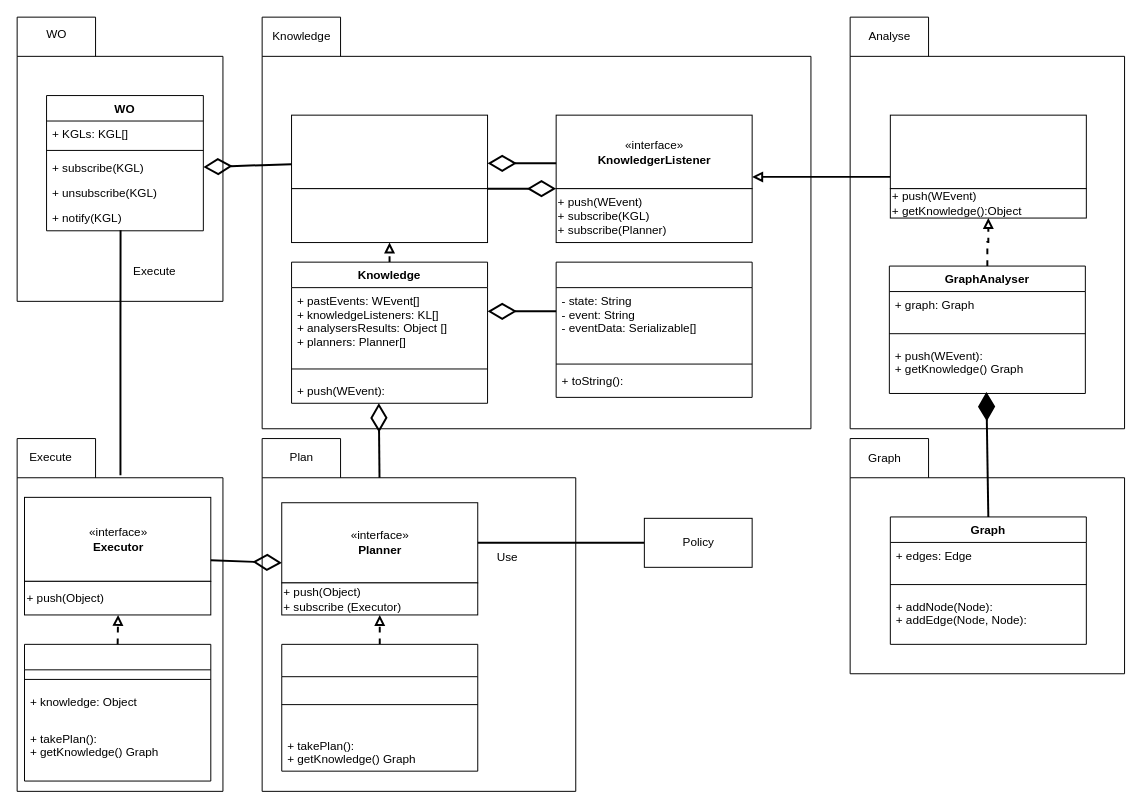
The diagram is 1142 pixels wide and 809 high, and some of its shapes have lost their labels. The box of each missing label's shape, as (x1, y1, x2, y2) in pixels:
+ push(WEvent) + subscribe(KnowledgeListener): (291, 188, 488, 243)
ConcreteExecutor: (24, 643, 211, 781)
GraphPlanner: (281, 643, 478, 771)
WEvent: (555, 261, 752, 397)
«interface» Analyser: (889, 114, 1086, 189)
«interface» KnowledgeGeneratorListener: (291, 114, 488, 189)
